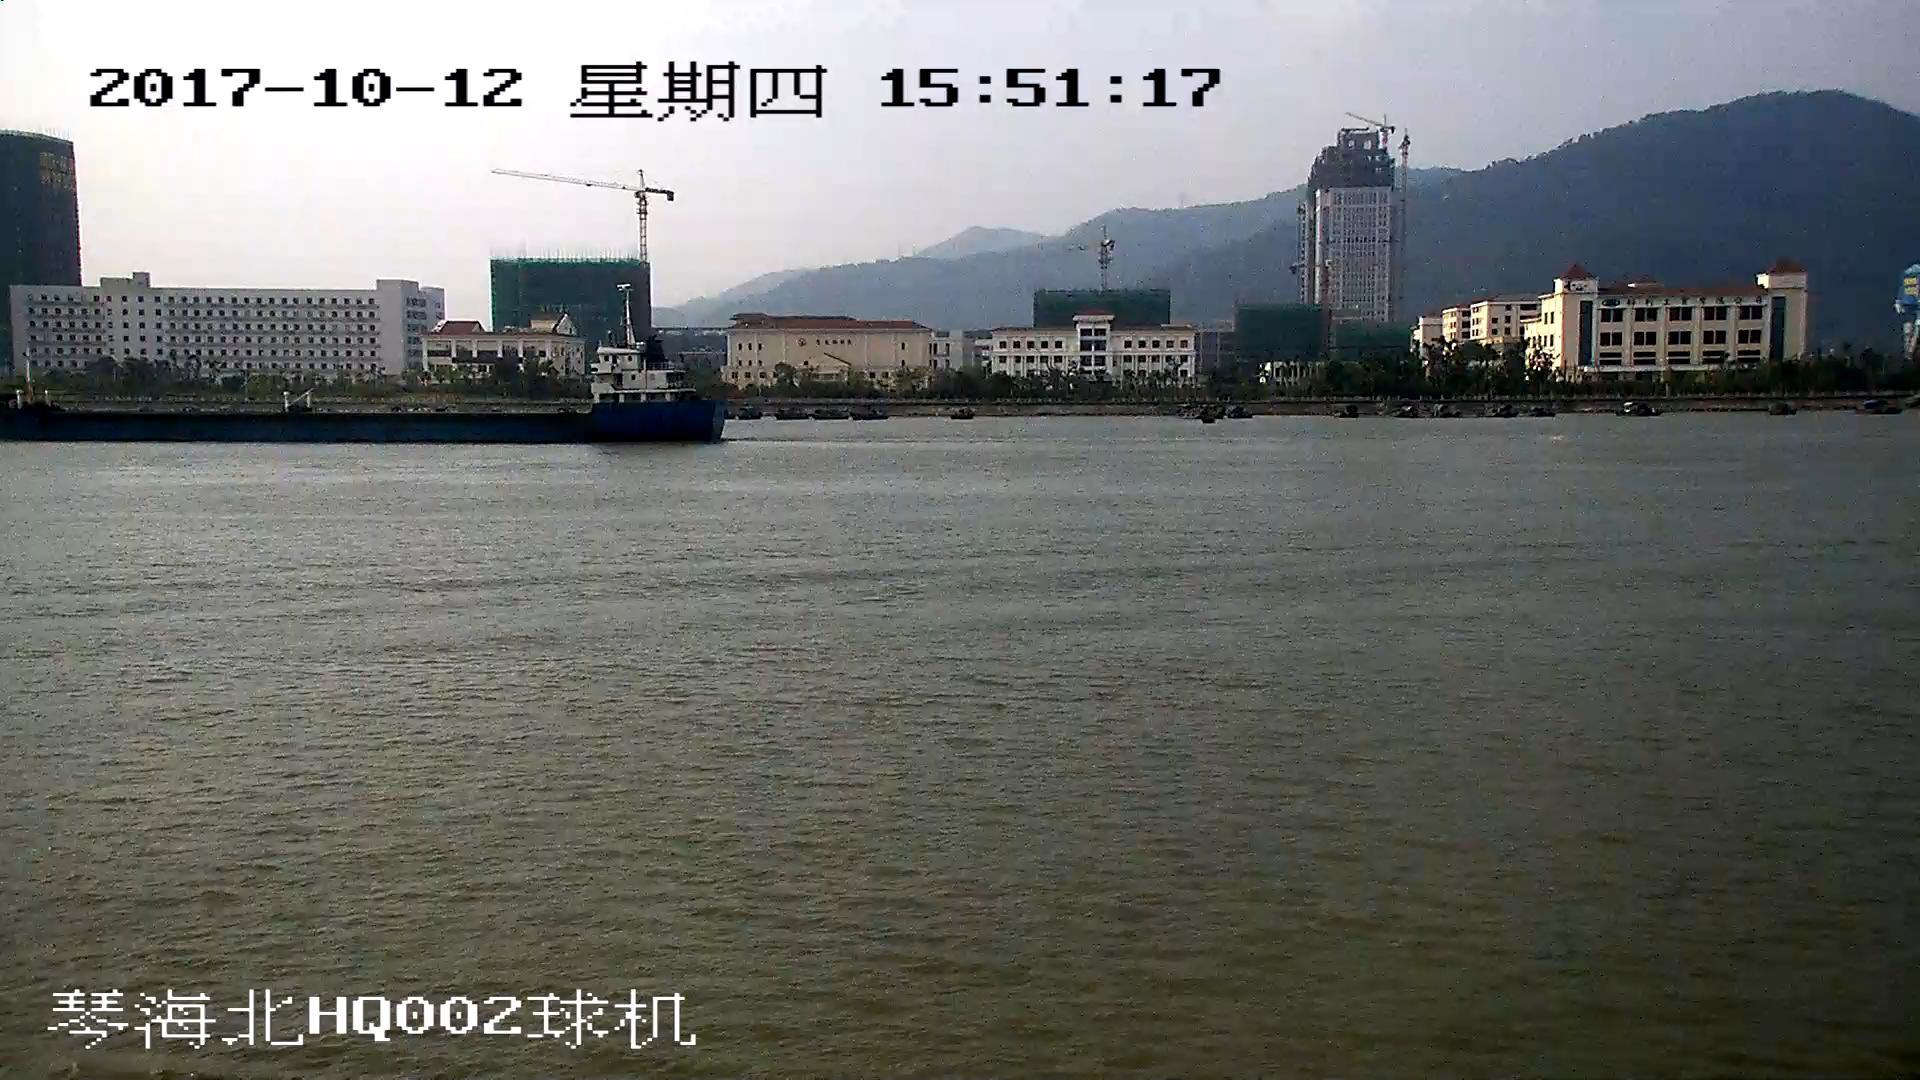general cargo ship: (1, 293, 727, 445)
